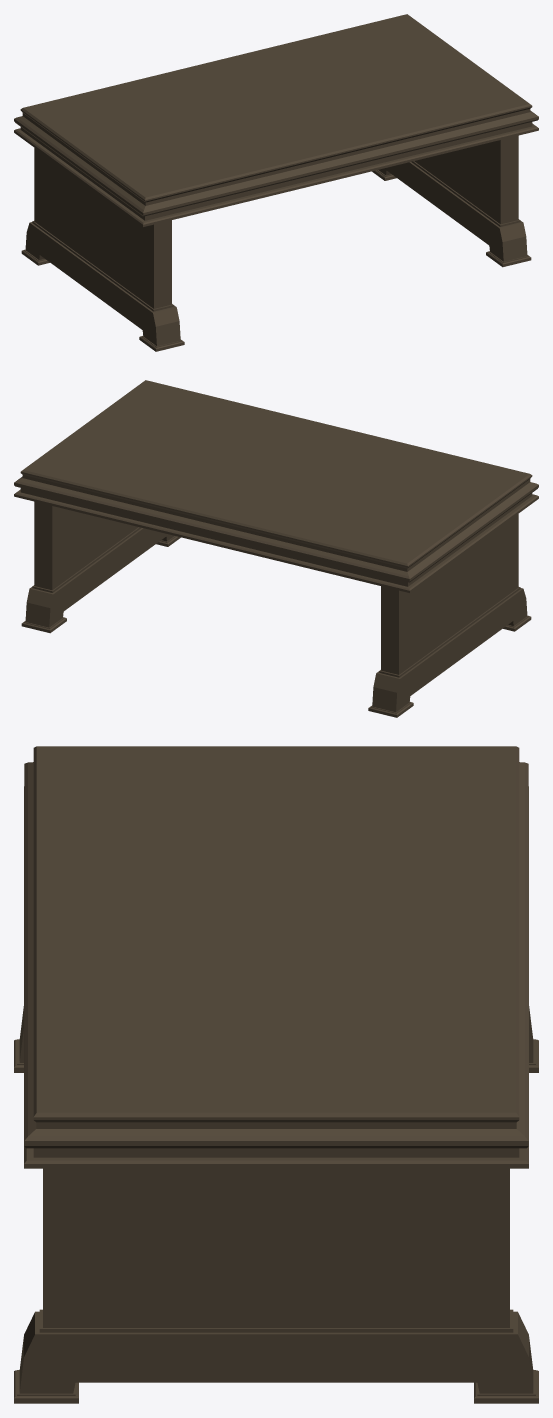
The model's file is escritorio.fbx.
3 renders of one model, top to bottom at view 1: azimuth 30°, elevation 25°; view 2: azimuth 150°, elevation 25°; view 3: azimuth 270°, elevation 25°, orthographic. The views are drawn at different scales.
Visible parts, largest first — view 1: escritorioMago; view 2: escritorioMago; view 3: escritorioMago.
Boxes of the visible parts, x1,y1,x2,y2 form: escritorioMago: (14, 14, 538, 351); escritorioMago: (14, 380, 538, 717); escritorioMago: (14, 746, 538, 1403).
Bounding box in the file's own units: 2.28 × 0.8329 × 1.34.
